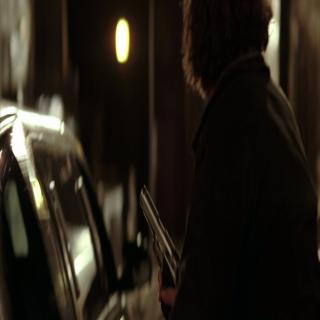gun: (136, 177, 181, 295)
